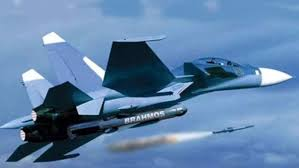maybay_muctieu: (12, 38, 294, 128)
ten_lua: (210, 120, 258, 136)
